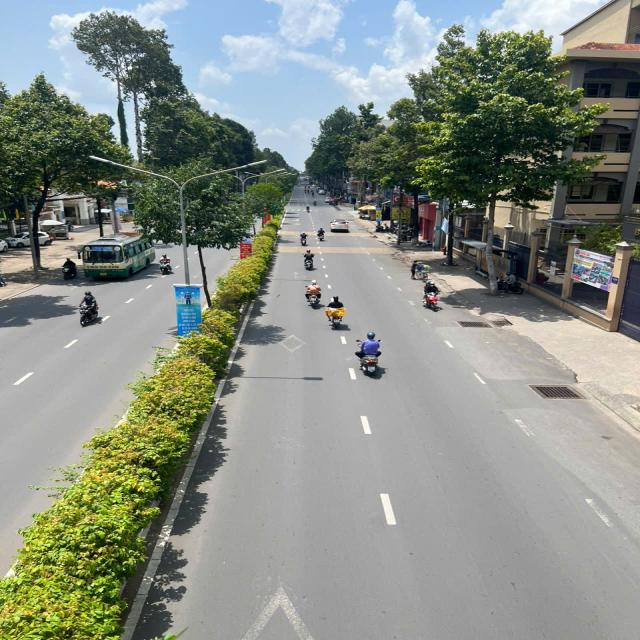car: (329, 216, 352, 235)
motobyte: (349, 330, 387, 382), (72, 289, 104, 327), (325, 293, 349, 329), (419, 278, 442, 312), (302, 277, 325, 309), (59, 257, 78, 281), (299, 247, 318, 270), (156, 252, 173, 277), (298, 228, 310, 250), (315, 225, 328, 242)
